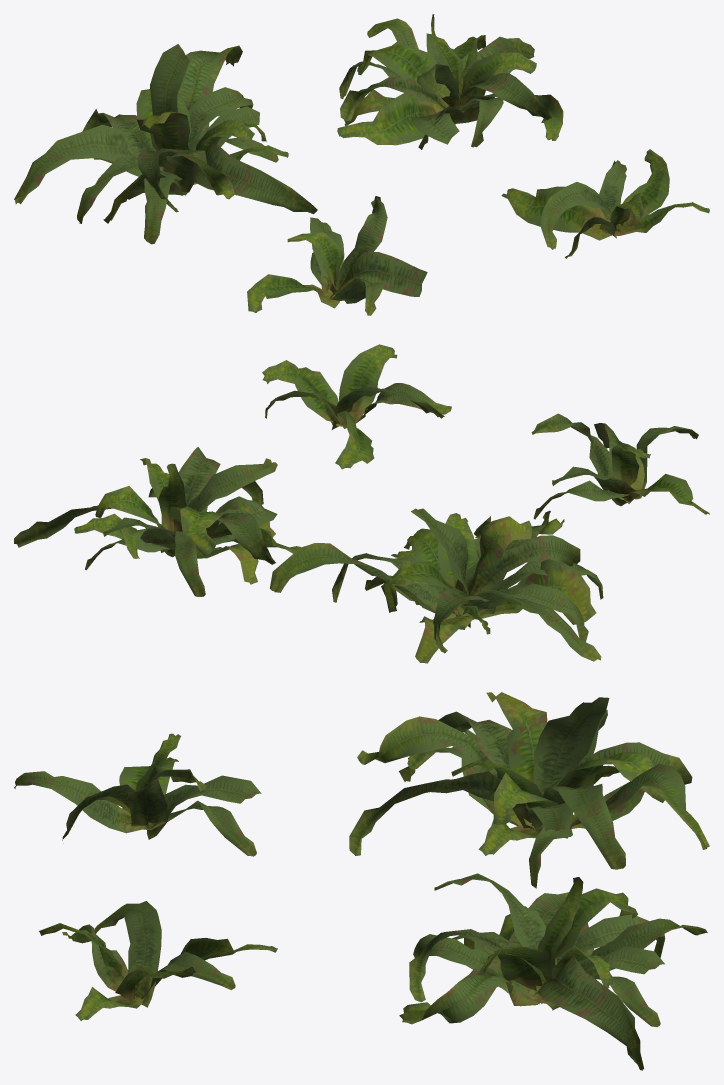
Rendered from fern_02.a1596a03ff.glb.
The picture shows the model from 3 angles, top to bottom: view 1: azimuth 30°, elevation 25°; view 2: azimuth 150°, elevation 25°; view 3: azimuth 270°, elevation 25°; orthographic projection. The views are drawn at different scales.
Parts seen in each view (by area): view 1: fern_02_b, fern_02_c, fern_02_d, fern_02_a; view 2: fern_02_b, fern_02_c, fern_02_d, fern_02_a; view 3: fern_02_b, fern_02_c, fern_02_a, fern_02_d.
Part boxes in pixels (x1,y1,x2,y2): fern_02_b: (14,44,317,244); fern_02_c: (337,14,563,149); fern_02_d: (501,149,709,258); fern_02_a: (247,196,427,315); fern_02_b: (270,508,603,663); fern_02_c: (14,447,300,596); fern_02_d: (262,344,451,469); fern_02_a: (531,413,709,519); fern_02_b: (349,692,709,888); fern_02_c: (399,873,707,1070); fern_02_a: (14,733,261,856); fern_02_d: (39,901,277,1020).
Bounding box in the file's own units: 1.97 × 0.4277 × 1.72.
1 material, 1 textured.
